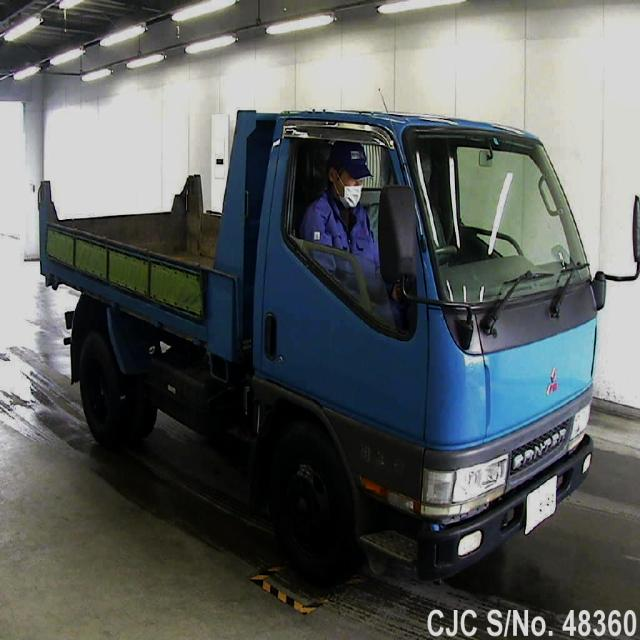truck: (40, 109, 640, 579)
